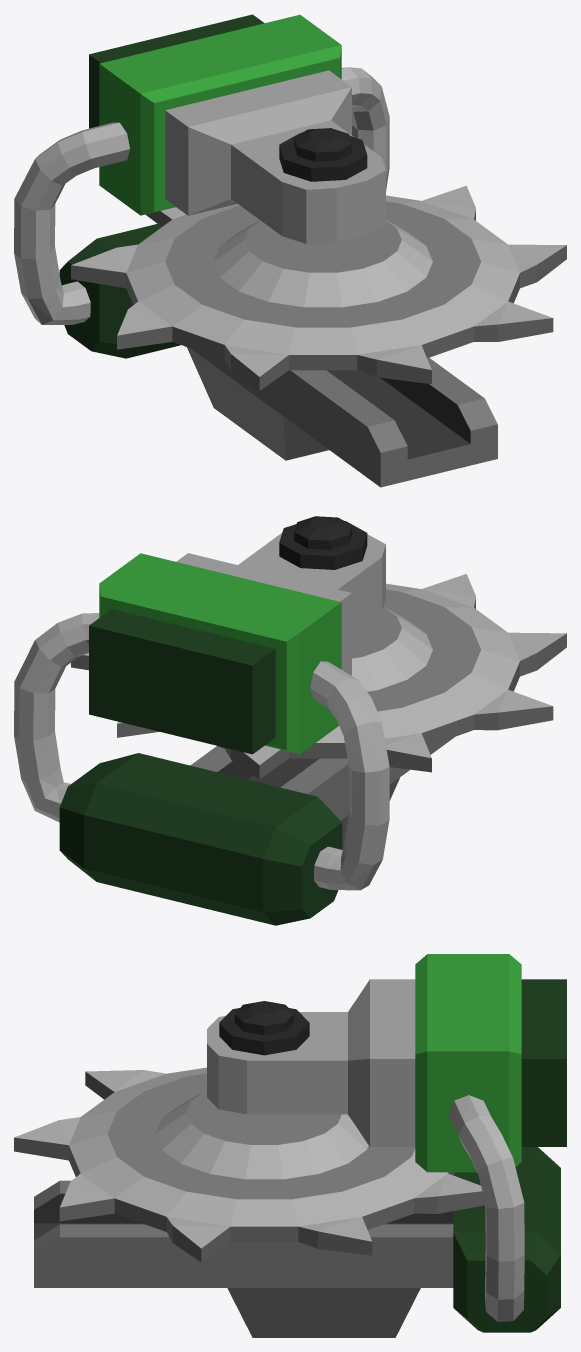
The model's file is saw_cannon.fbx.
The picture shows the model from 3 angles, top to bottom: view 1: azimuth 30°, elevation 25°; view 2: azimuth 150°, elevation 25°; view 3: azimuth 270°, elevation 25°; orthographic projection.
Visible parts, largest first — view 1: Cylinder.035, Cube.065, Cube.066, BezierCurve, Cube.067, Cylinder.036; view 2: Cube.065, Cube.067, Cylinder.035, BezierCurve, Cube.066, Cylinder.036; view 3: Cylinder.035, Cube.065, Cube.066, Cube.067, BezierCurve, Cylinder.036.
Boxes of the visible parts, x1,y1,x2,y2 form: Cylinder.035: (71,185,566,390); Cube.065: (89,14,385,243); Cube.066: (187,347,497,487); BezierCurve: (14,67,389,324); Cube.067: (59,224,180,358); Cylinder.036: (279,128,367,181); Cube.065: (89,533,385,754); Cube.067: (59,753,342,925); Cylinder.035: (71,574,566,779); BezierCurve: (14,613,389,890); Cube.066: (190,736,455,849); Cylinder.036: (279,516,367,569); Cylinder.035: (14,1067,485,1262); Cube.065: (207,954,566,1172); Cube.066: (34,1180,453,1337); Cube.067: (453,1147,560,1332); BezierCurve: (448,1095,524,1321); Cylinder.036: (219,1001,309,1055).
Bounding box in the file's own units: 121 × 84.96 × 136.
